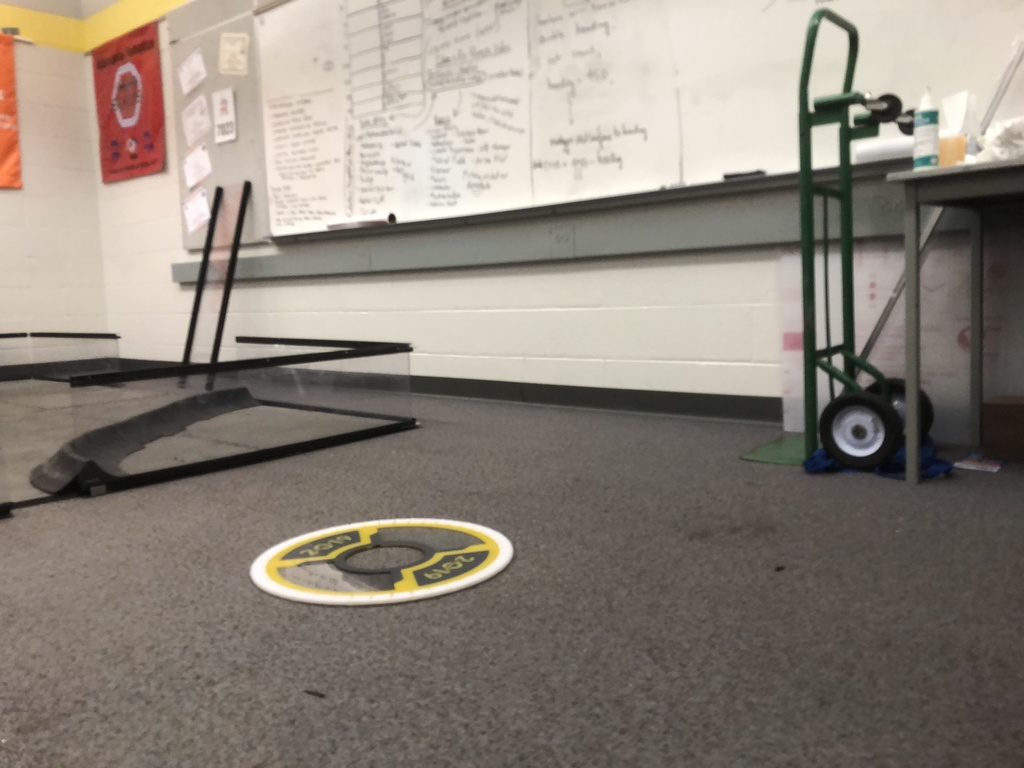hatch_panel: (244, 507, 528, 615)
